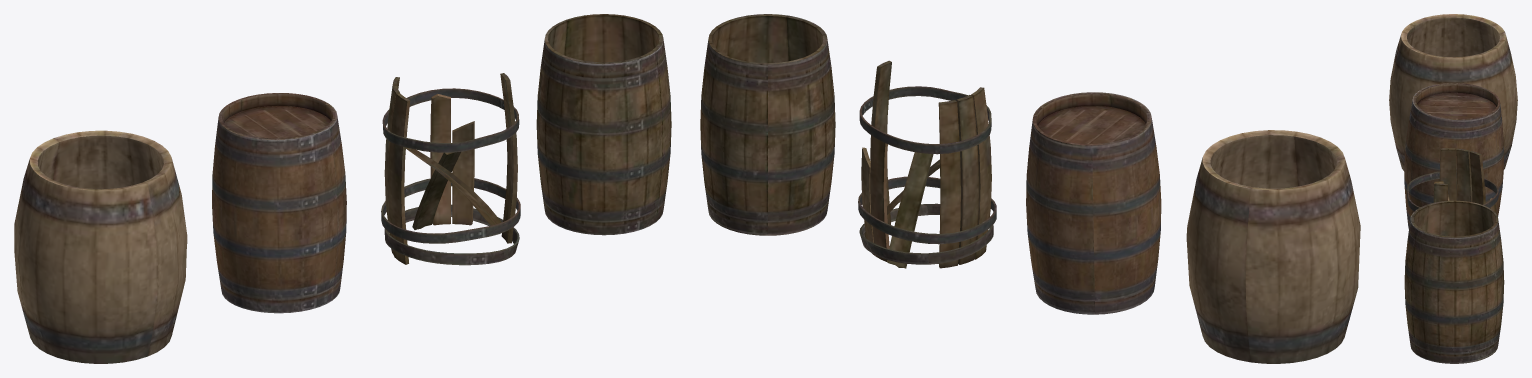
The model's file is p_barrels_wood.glb.
3 views of the same model, side by side, from view 1: azimuth 30°, elevation 25°; view 2: azimuth 150°, elevation 25°; view 3: azimuth 270°, elevation 25° (orthographic). The views are drawn at different scales.
Parts seen in each view (by area): view 1: barrel_big_Barrels_0, mesh0_Barrels_0, barrel_small_open_Barrels_0, barrel_small_broken_Barrels_0; view 2: barrel_big_Barrels_0, mesh0_Barrels_0, barrel_small_open_Barrels_0, barrel_small_broken_Barrels_0; view 3: mesh0_Barrels_0, barrel_big_Barrels_0, barrel_small_open_Barrels_0, barrel_small_broken_Barrels_0.
Part boxes in pixels (x1,y1,x2,y2): barrel_big_Barrels_0: (14,130,187,363); mesh0_Barrels_0: (536,14,671,235); barrel_small_open_Barrels_0: (212,93,346,313); barrel_small_broken_Barrels_0: (381,73,520,265); barrel_big_Barrels_0: (1186,130,1360,363); mesh0_Barrels_0: (700,14,835,235); barrel_small_open_Barrels_0: (1026,92,1161,314); barrel_small_broken_Barrels_0: (858,60,996,268); mesh0_Barrels_0: (1404,200,1504,363); barrel_big_Barrels_0: (1389,14,1517,171); barrel_small_open_Barrels_0: (1404,83,1503,228); barrel_small_broken_Barrels_0: (1407,148,1498,213).
Size of the model in its own units: 1.37 by 0.3589 by 0.3255.
Materials: 1 (1 with a texture image).
